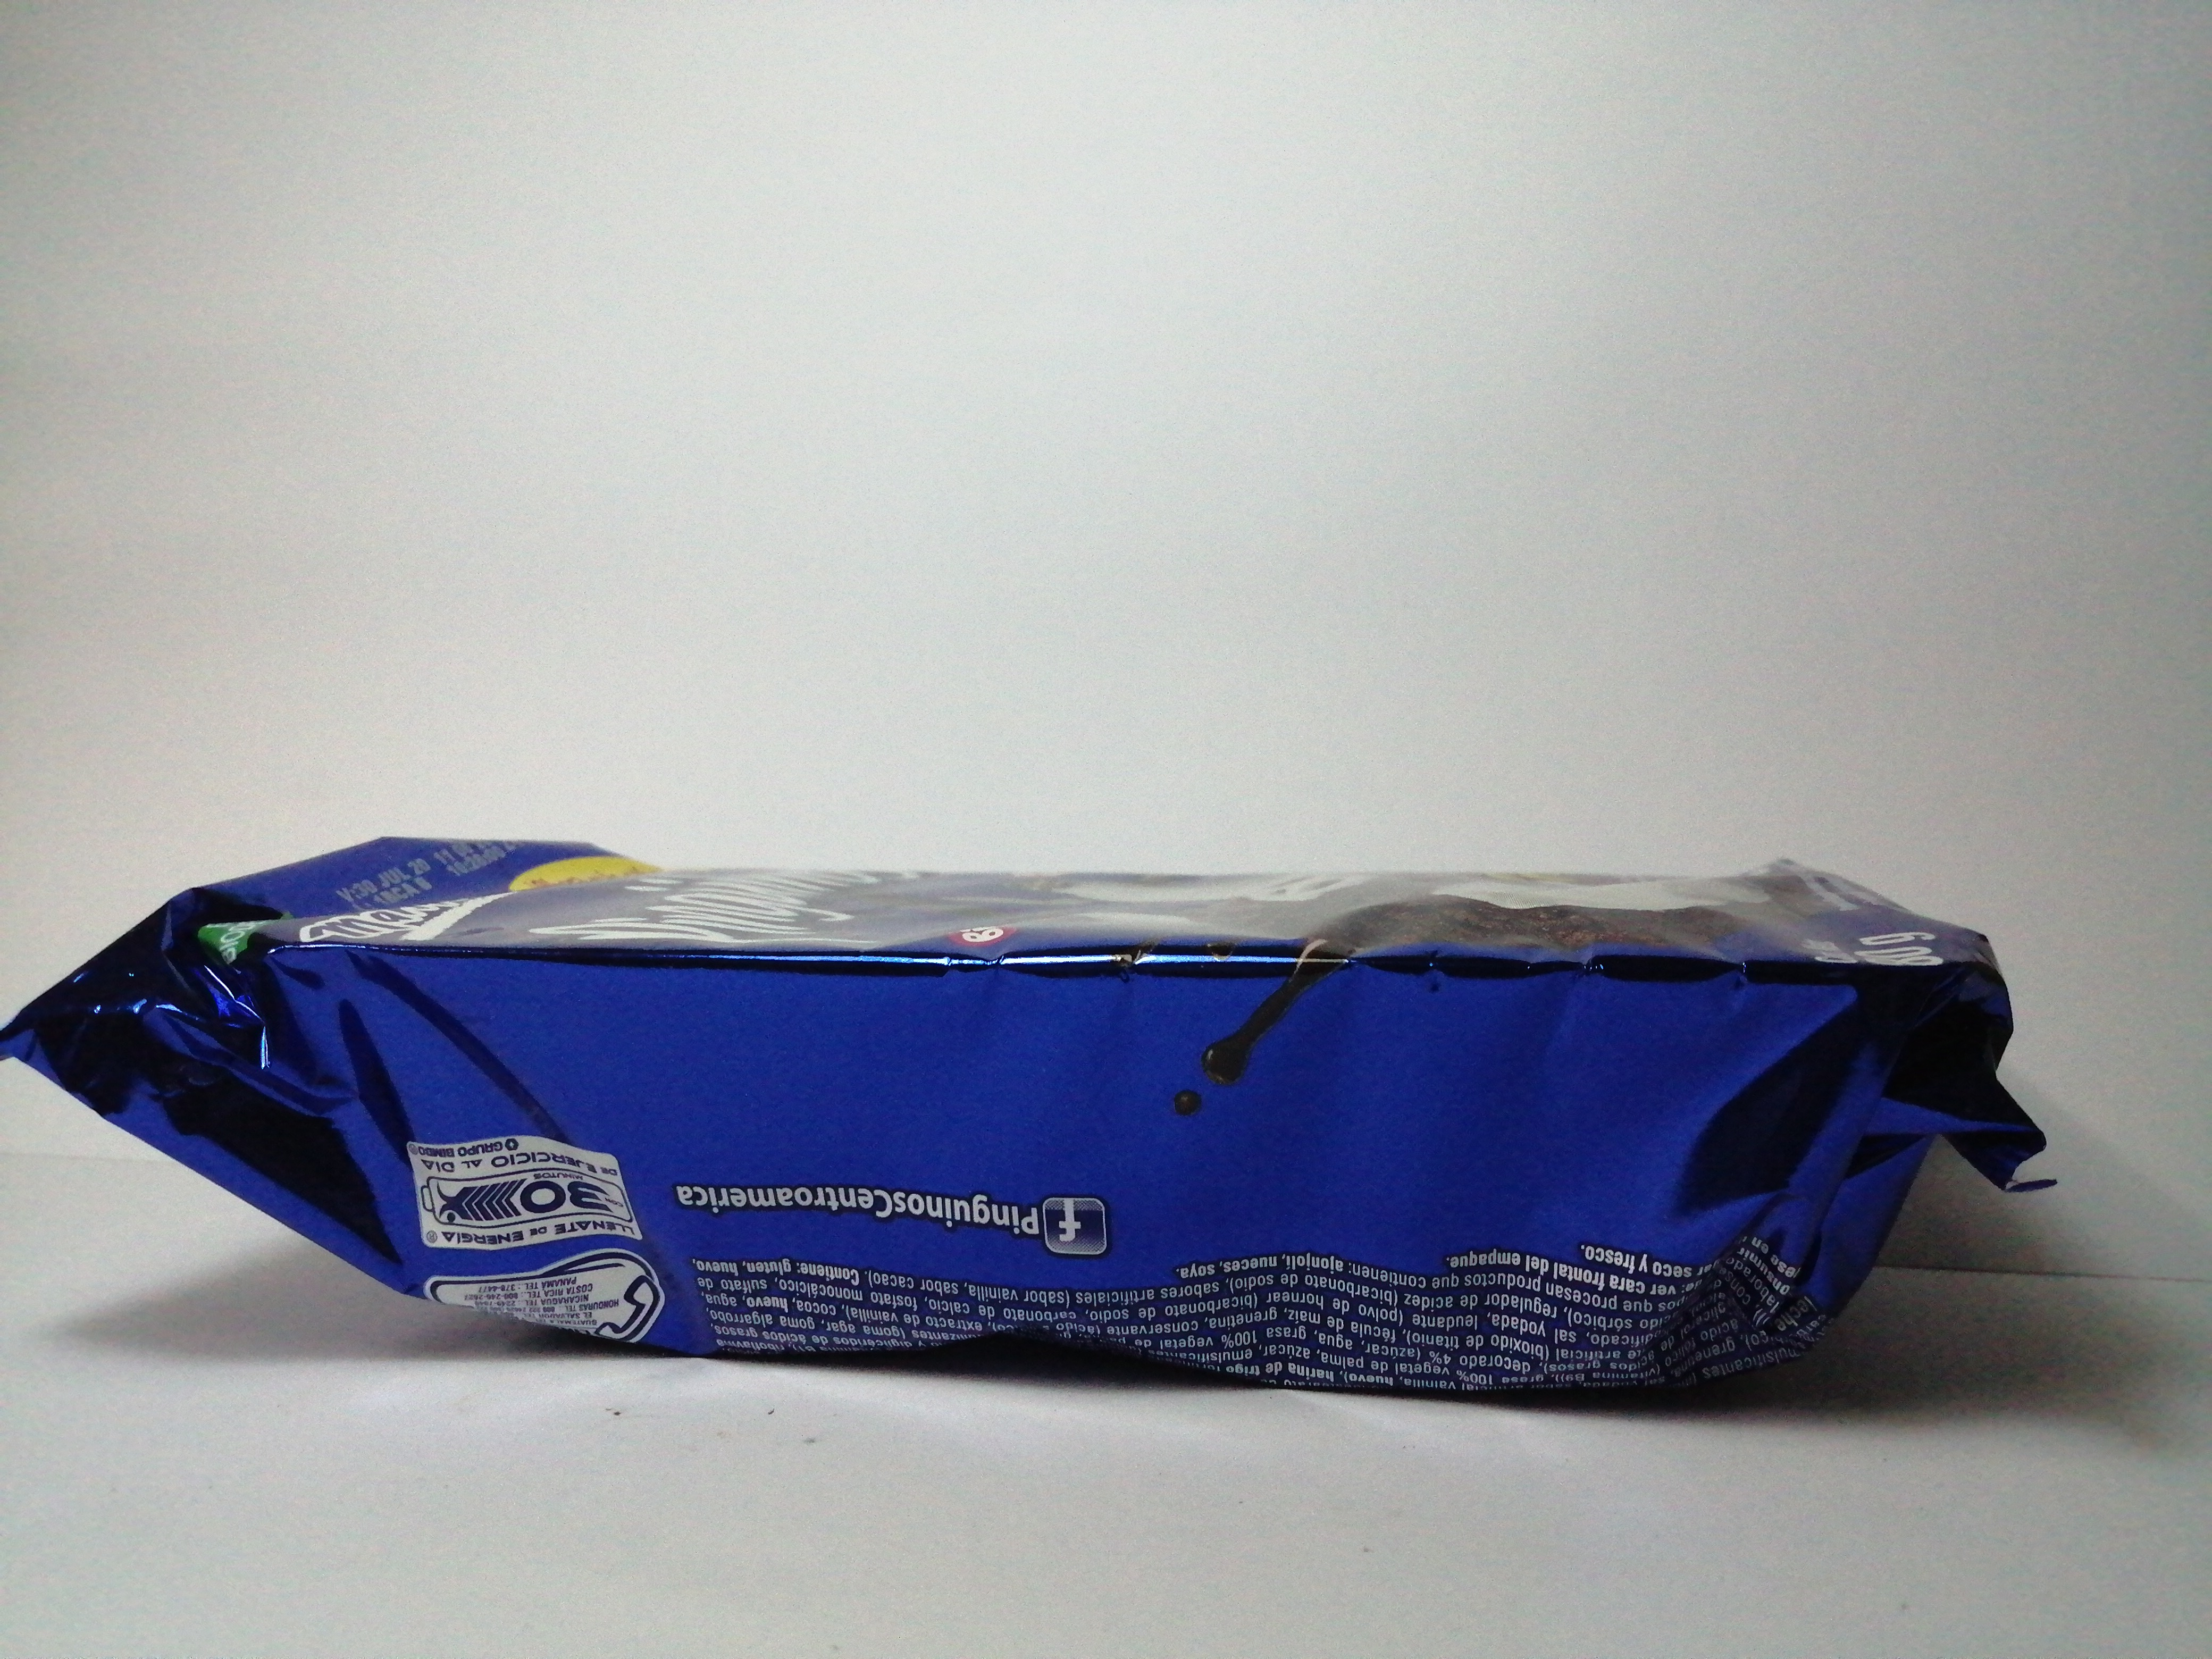pinguino: (16, 831, 2033, 1410)
